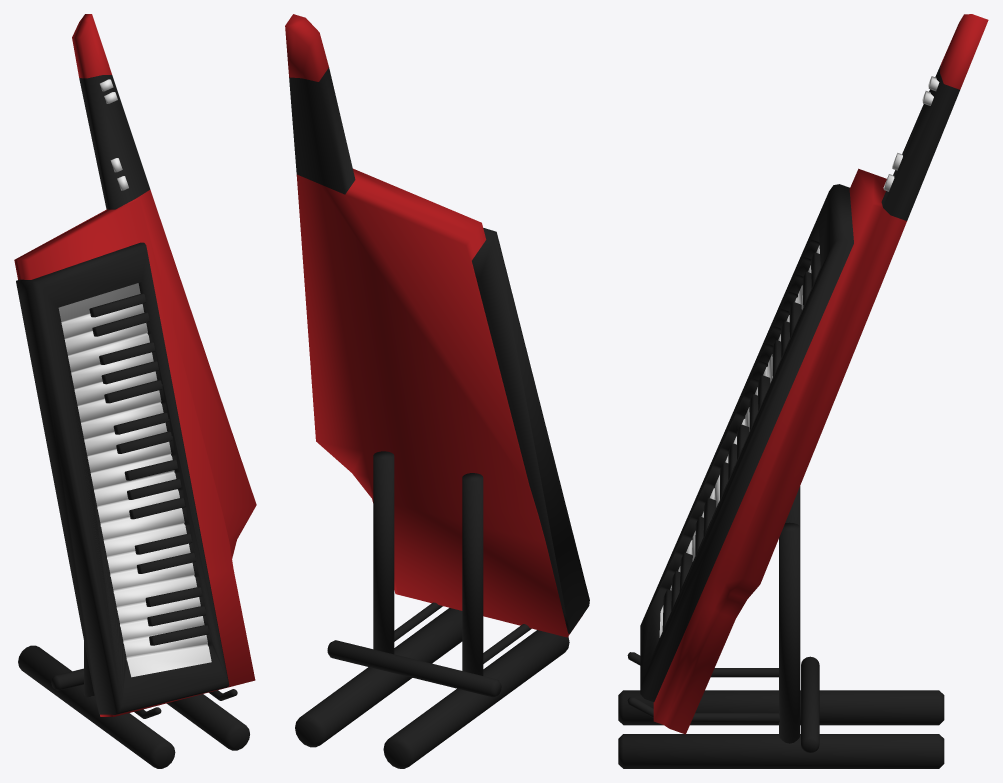
File: keytar red.fbx
The picture shows the model from 3 angles, left to right: view 1: azimuth 30°, elevation 25°; view 2: azimuth 150°, elevation 25°; view 3: azimuth 270°, elevation 25°; orthographic projection. The views are drawn at different scales.
Visible parts, largest first — view 1: Cube; view 2: Cube; view 3: Cube.
Part boxes in pixels (bbox=[...]): Cube: bbox=[14, 14, 256, 768]; Cube: bbox=[285, 14, 589, 768]; Cube: bbox=[618, 14, 988, 768].
Size of the model in its own units: 32.25 by 105 by 46.85.
